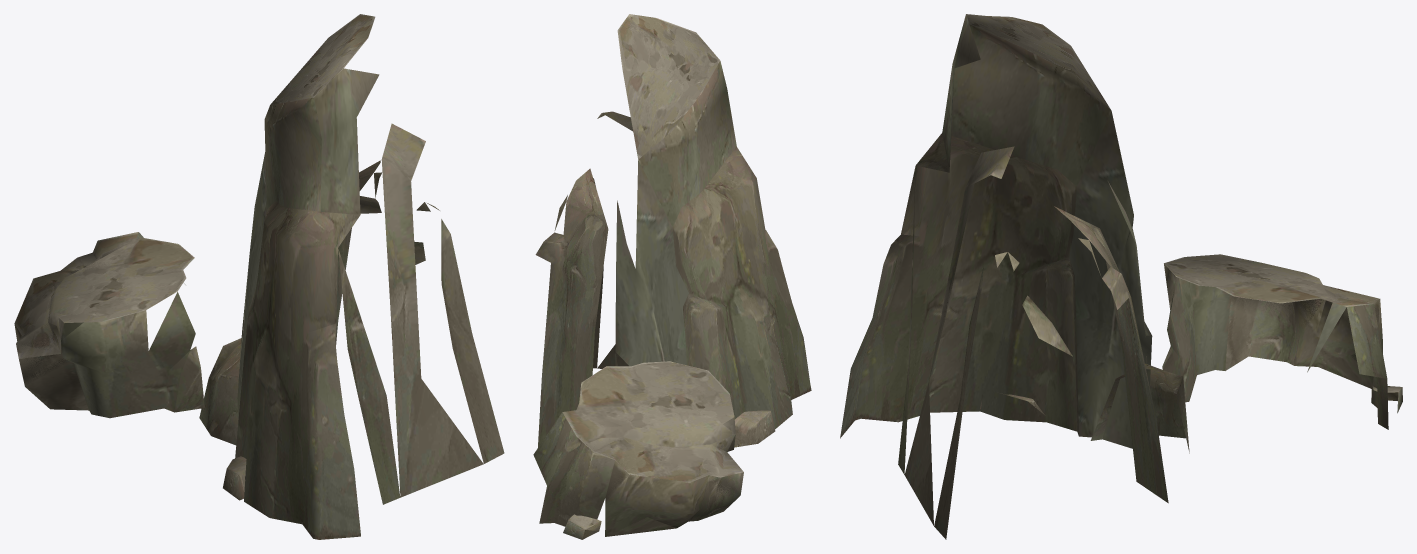
Rendered from shitpi_09.FBX.
3 views of the same model, side by side, from view 1: azimuth 30°, elevation 25°; view 2: azimuth 150°, elevation 25°; view 3: azimuth 270°, elevation 25° (orthographic). The views are drawn at different scales.
Parts seen in each view (by area): view 1: shitpi_09; view 2: shitpi_09; view 3: shitpi_09.
Part boxes in pixels (box(x1,y1,x2,y2)): shitpi_09: box(14, 14, 504, 539); shitpi_09: box(533, 14, 811, 539); shitpi_09: box(840, 14, 1402, 539).
Bounding box in the file's own units: 2.94 × 3.62 × 3.91.
